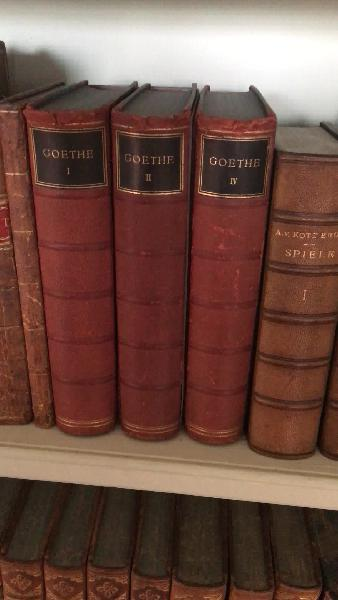Aa6-10: (2, 105, 54, 424)
Aa6-11_13: (15, 104, 278, 454)
